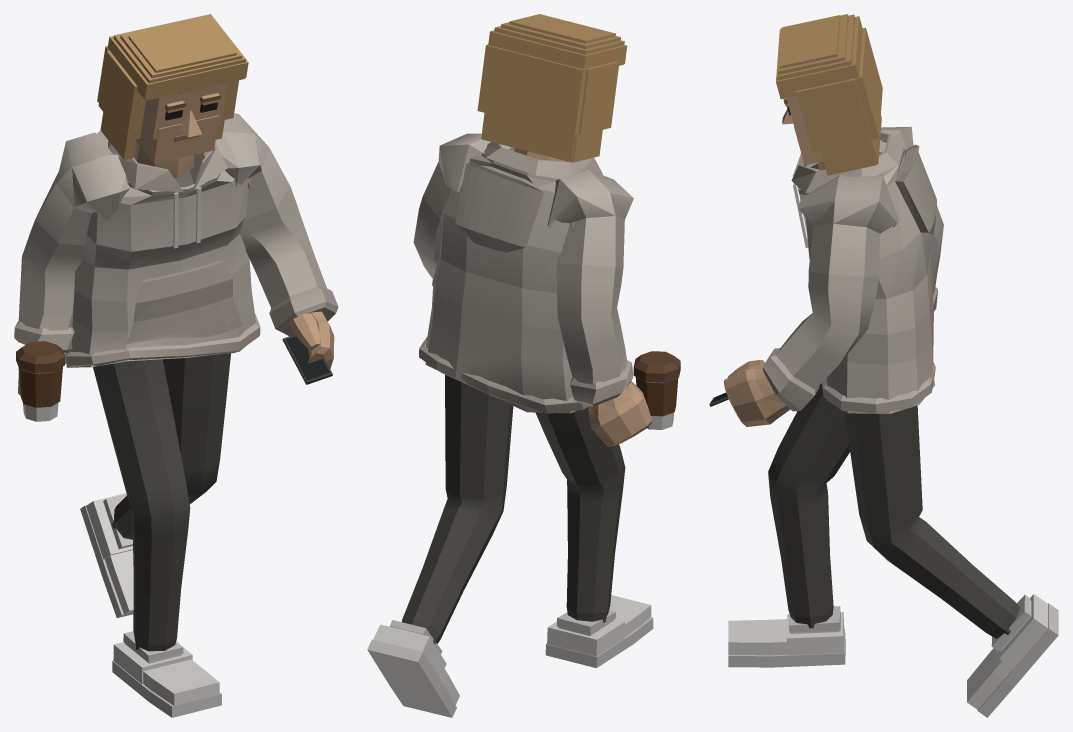
The model's file is student-in-a-hoodie-7c8223__walk5.glb.
3 views of the same model, side by side, from view 1: azimuth 30°, elevation 25°; view 2: azimuth 150°, elevation 25°; view 3: azimuth 270°, elevation 25° (orthographic). The views are drawn at different scales.
Visible parts, largest first — view 1: student-in-a-hoodie-7c8223__walk5; view 2: student-in-a-hoodie-7c8223__walk5; view 3: student-in-a-hoodie-7c8223__walk5.
Boxes of the visible parts, <box> form: student-in-a-hoodie-7c8223__walk5: <box>14,14,338,717</box>; student-in-a-hoodie-7c8223__walk5: <box>367,14,680,717</box>; student-in-a-hoodie-7c8223__walk5: <box>709,14,1058,717</box>.
Bounding box in the file's own units: 0.7822 × 1.73 × 0.8448.
